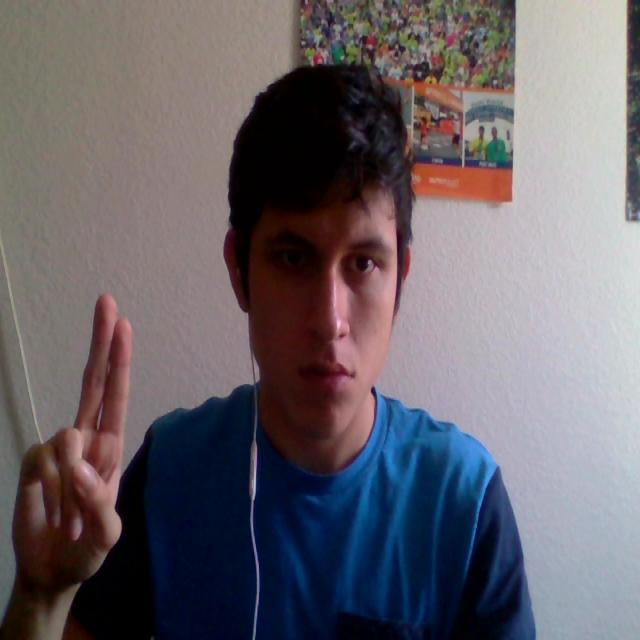U: (1, 248, 160, 617)
